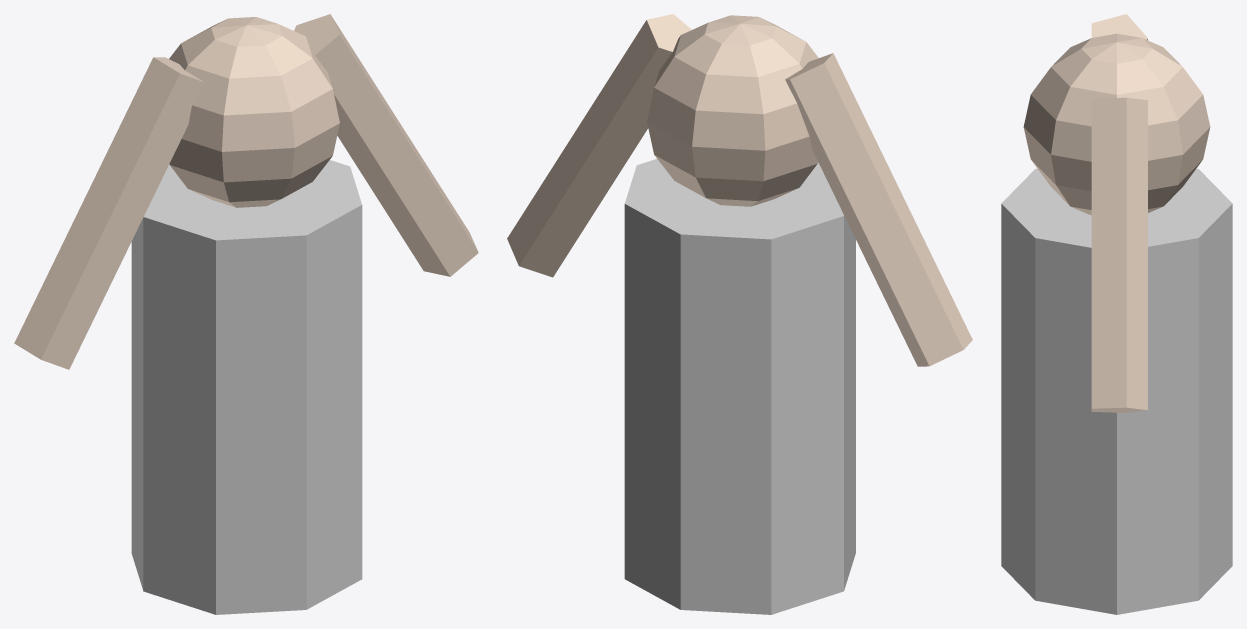
The model's file is person.glb.
3 renders of one model, left to right at view 1: azimuth 30°, elevation 25°; view 2: azimuth 150°, elevation 25°; view 3: azimuth 270°, elevation 25°, orthographic. The views are drawn at different scales.
Parts seen in each view (by area): view 1: person; view 2: person; view 3: person.
Part boxes in pixels (box(x1,y1,x2,y2)): person: box(14, 14, 478, 614); person: box(507, 14, 972, 614); person: box(1001, 14, 1232, 614).
Size of the model in its own units: 11.45 by 13 by 5.2.
